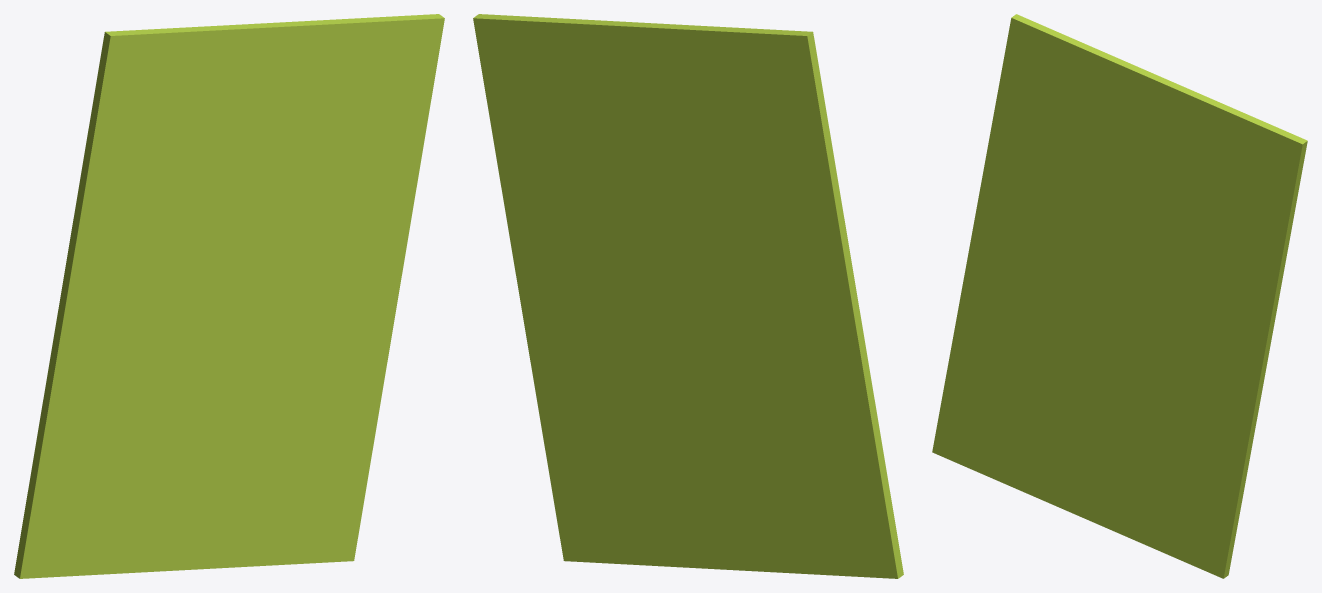
3 views of the same model, side by side, from view 1: azimuth 30°, elevation 25°; view 2: azimuth 150°, elevation 25°; view 3: azimuth 330°, elevation 25° (orthographic). The views are drawn at different scales.
Parts seen in each view (by area): view 1: osm-way27917482-F2; view 2: osm-way27917482-F2; view 3: osm-way27917482-F2.
Part boxes in pixels (box(x1,y1,x2,y2)): osm-way27917482-F2: box(14, 14, 444, 578); osm-way27917482-F2: box(473, 14, 903, 578); osm-way27917482-F2: box(932, 14, 1307, 578).
Bounding box in the file's own units: 6.29 × 8.26 × 0.15.
